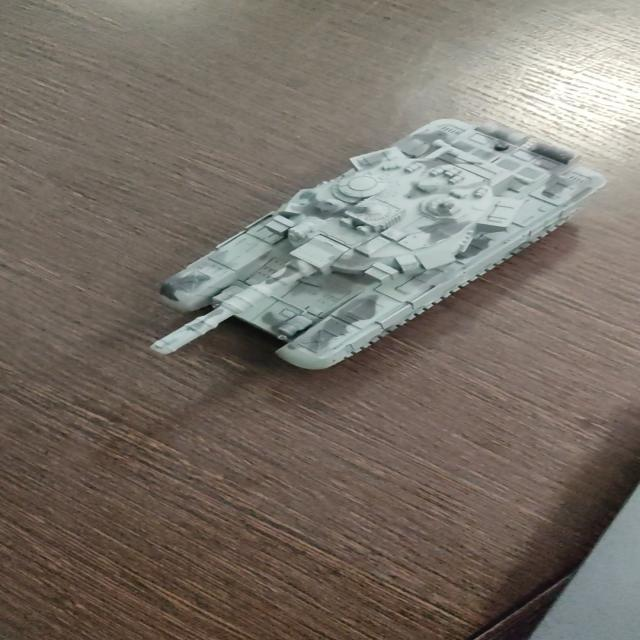tank: (140, 106, 620, 375)
